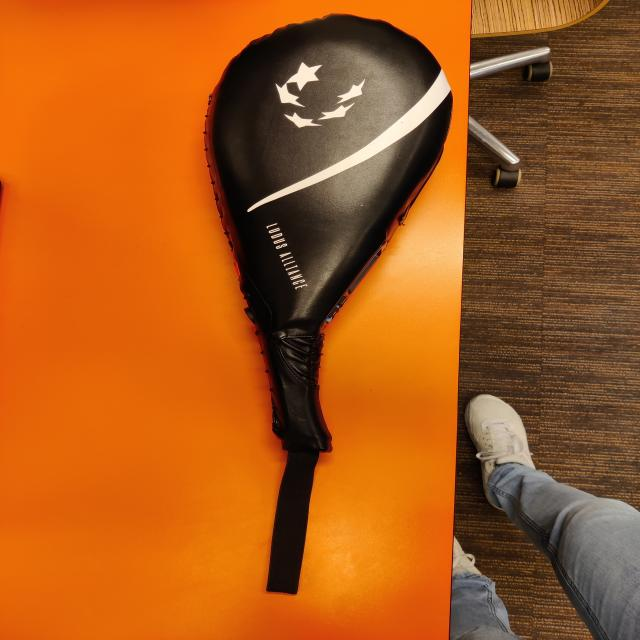paddle: (204, 9, 454, 454)
